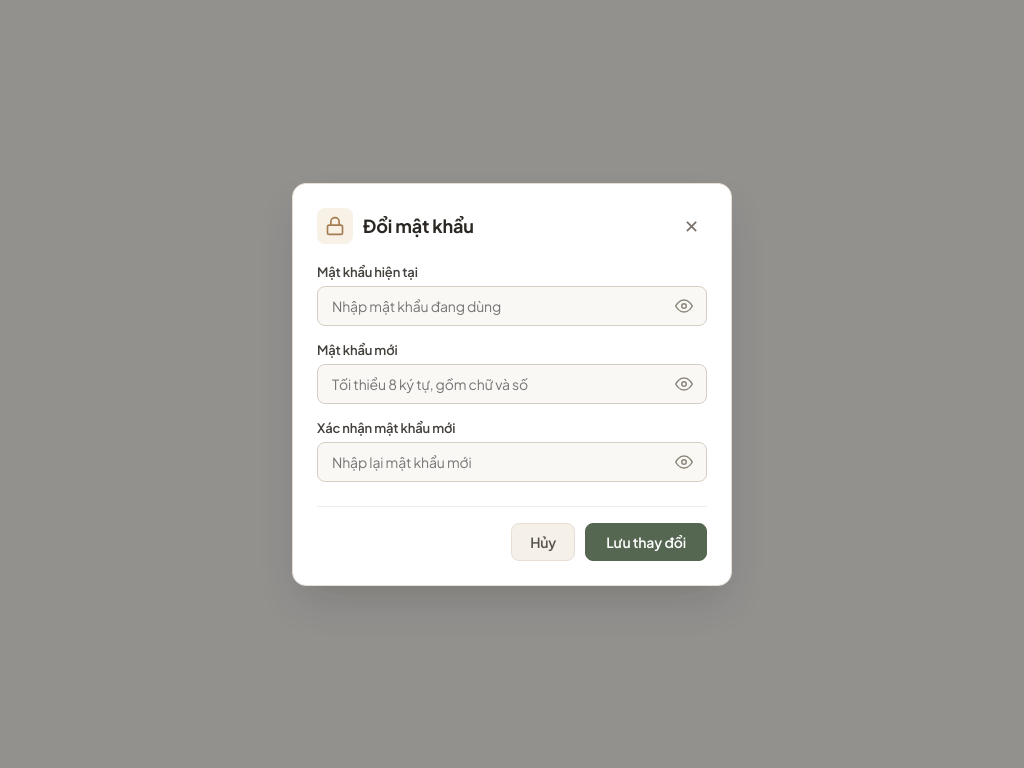
it: ChangePasswordModal › validates required current password
The width and height of the screenshot is (1024, 768).
Step 1. Click the button "Lưu thay đổi" → coordinates (646, 542), box [585,522,707,560]
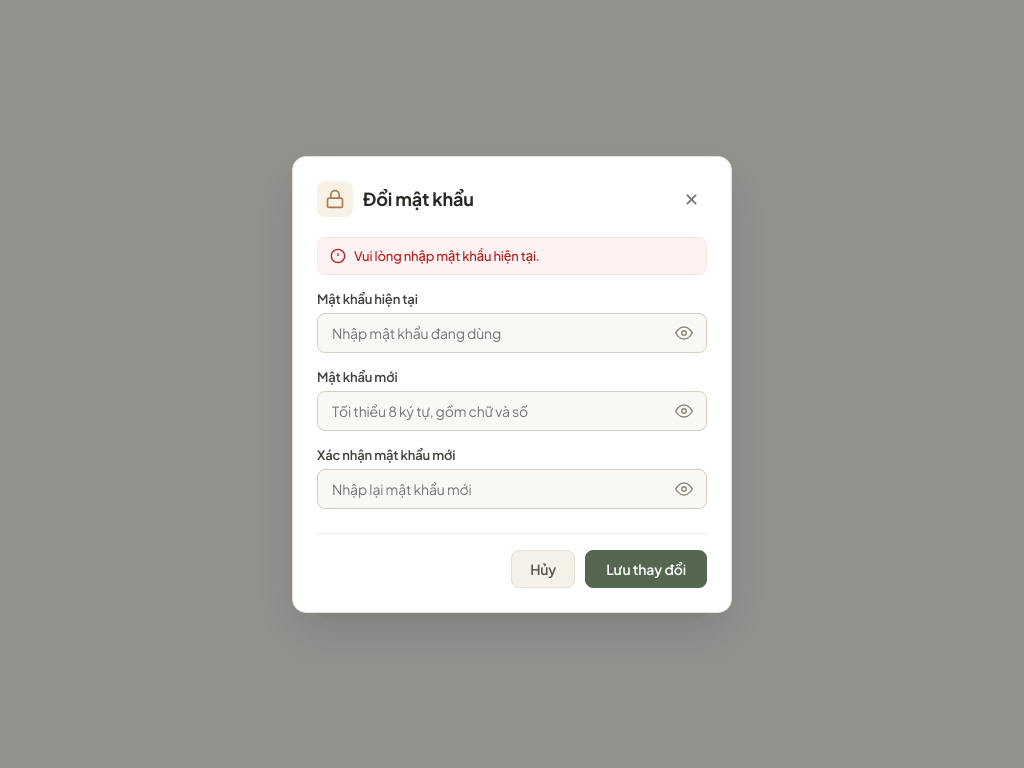
Expected: the text "Vui lòng nhập mật khẩu hiện tại." is shown, [354,248,540,264]
